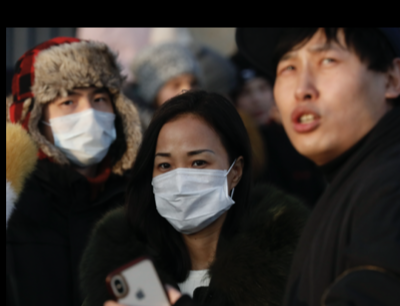with_mask: (151, 143, 235, 236), (43, 87, 118, 164)
without_mask: (274, 43, 386, 162)
